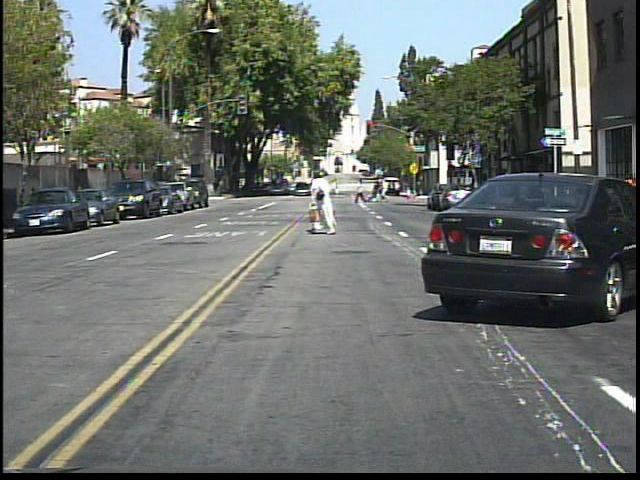person: (305, 165, 342, 239), (620, 164, 639, 226), (515, 166, 535, 224), (354, 176, 369, 206), (378, 176, 393, 205)
